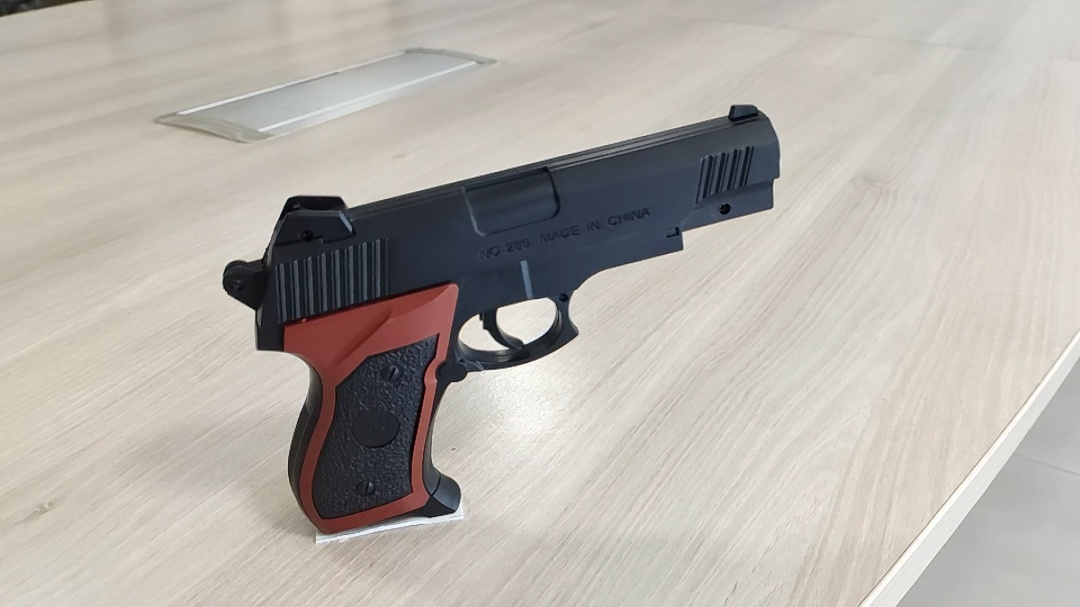gun: (219, 103, 784, 537)
